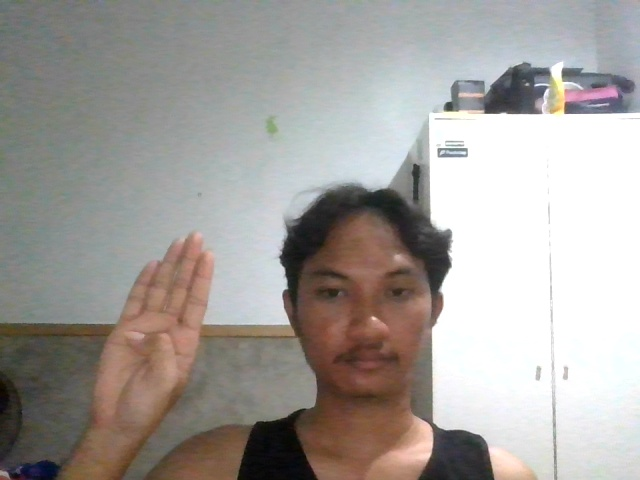b: (70, 223, 226, 429)
